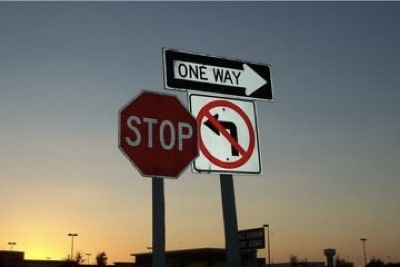StopSign: (117, 87, 201, 180)
